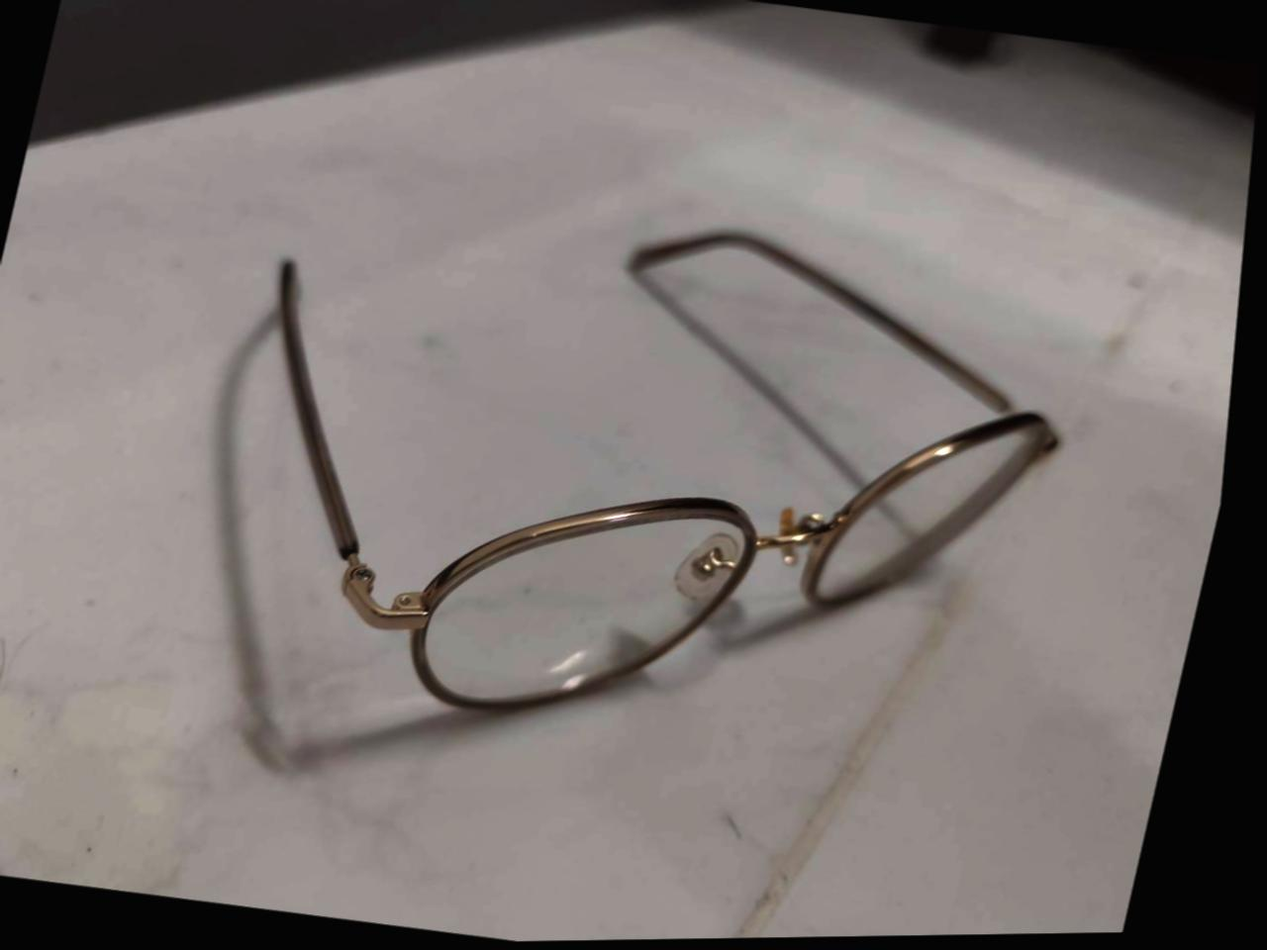glasses: (153, 157, 1141, 811)
